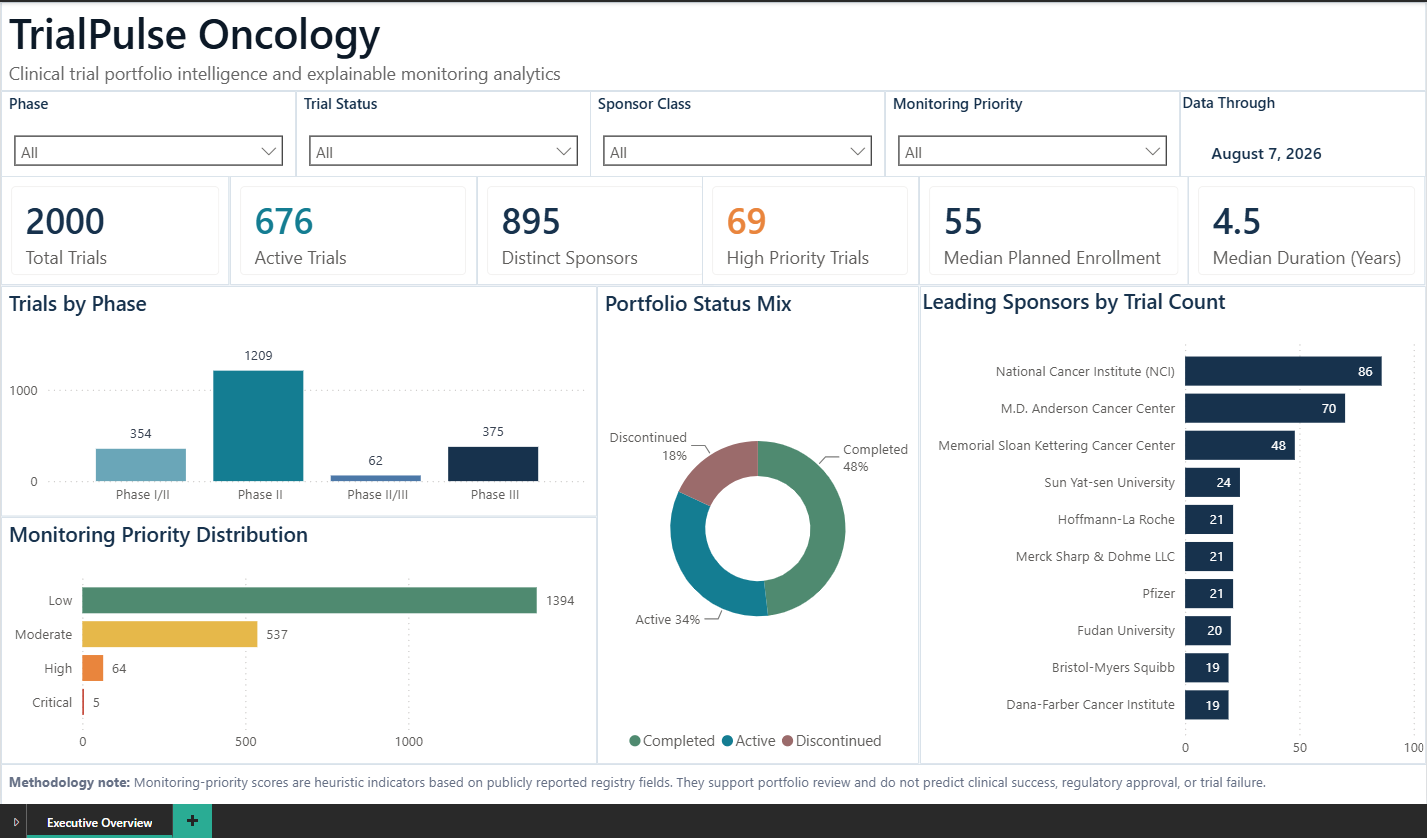

What the dashboard file says about the page in this screenshot:
{"tool":"powerbi","page":{"name":"Executive Overview","canvas":[1280,720],"ordinal":0},"visuals":[{"type":"cardVisual","fields":{"Data":["_Measures.Total Trials"]},"box":[0,156.6,205.2,98.2],"z":0},{"type":"cardVisual","fields":{"Data":["_Measures.Active Trials"]},"box":[205.2,156.6,221.8,98.2],"z":1000},{"type":"cardVisual","fields":{"Data":["_Measures.Distinct Sponsors"]},"box":[427,156.6,213,98.2],"z":2000},{"type":"cardVisual","fields":{"Data":["_Measures.High Priority Trials"]},"box":[629.3,156.6,194.5,98.2],"z":3000},{"type":"cardVisual","fields":{"Data":["_Measures.Median Planned Enrollment"]},"box":[823.8,156.6,242.2,98.2],"z":4000},{"type":"cardVisual","fields":{"Data":["_Measures.Median Planned Duration"]},"box":[1066,156.6,214,98.2],"z":5000},{"type":"clusteredColumnChart","title":"Trials by Phase","fields":{"Category":["Trials.phase_clean"],"Y":["_Measures.Total Trials"]},"box":[0,254.8,535,207.2],"z":6000},{"type":"clusteredBarChart","title":"Monitoring Priority Distribution","fields":{"Category":["Trials.risk_category"],"Y":["_Measures.Total Trials"]},"box":[0,462,535,221.8],"z":7000},{"type":"donutChart","title":"Portfolio Status Mix","fields":{"Category":["Trials.status_group"],"Y":["_Measures.Total Trials"]},"box":[535,254.8,288.9,428.9],"z":8000},{"type":"clusteredBarChart","title":"Leading Sponsors by Trial Count","fields":{"Category":["Trials.sponsor"],"Y":["_Measures.Total Trials"]},"box":[824.8,254.8,455.2,428.9],"z":9000},{"type":"slicer","title":"Phase","fields":{"Values":["Trials.phase_clean"]},"box":[0,79.8,265,76.8],"z":10000},{"type":"slicer","title":"Trial Status","fields":{"Values":["Trials.status"]},"box":[264.6,79.8,265,76.8],"z":11000},{"type":"slicer","title":"Sponsor Class","fields":{"Values":["Trials.sponsor_class"]},"box":[529.1,79.8,265,76.8],"z":12000},{"type":"cardVisual","title":"Data Through","fields":{"Data":["_Measures.Latest Registry Update"]},"box":[1058.2,79.8,221.8,76.8],"z":13000},{"type":"textbox","title":"TrialPulse Oncology","box":[0,0,1280,79.8],"z":14000},{"type":"textbox","box":[0,683.8,1281,37],"z":15000},{"type":"slicer","title":"Monitoring Priority","fields":{"Values":["Trials.risk_category"]},"box":[793.7,79.8,265,76.8],"z":16000}]}

Visuals, with their boxes on the page's 1280x720 design canvas (x1, y1, x2, y2). These are canvas units, not pixel positions in the 1427x838 screenshot, which may show the page scaled, cropped or inside an application window:
cardVisual - _Measures.Total Trials: (0, 157, 205, 255)
cardVisual - _Measures.Active Trials: (205, 157, 427, 255)
cardVisual - _Measures.Distinct Sponsors: (427, 157, 640, 255)
cardVisual - _Measures.High Priority Trials: (629, 157, 824, 255)
cardVisual - _Measures.Median Planned Enrollment: (824, 157, 1066, 255)
cardVisual - _Measures.Median Planned Duration: (1066, 157, 1280, 255)
"Trials by Phase" clusteredColumnChart: (0, 255, 535, 462)
"Monitoring Priority Distribution" clusteredBarChart: (0, 462, 535, 684)
"Portfolio Status Mix" donutChart: (535, 255, 824, 684)
"Leading Sponsors by Trial Count" clusteredBarChart: (825, 255, 1280, 684)
"Phase" slicer: (0, 80, 265, 157)
"Trial Status" slicer: (265, 80, 530, 157)
"Sponsor Class" slicer: (529, 80, 794, 157)
"Data Through" cardVisual: (1058, 80, 1280, 157)
"TrialPulse Oncology" textbox: (0, 0, 1280, 80)
textbox: (0, 684, 1281, 721)
"Monitoring Priority" slicer: (794, 80, 1059, 157)
